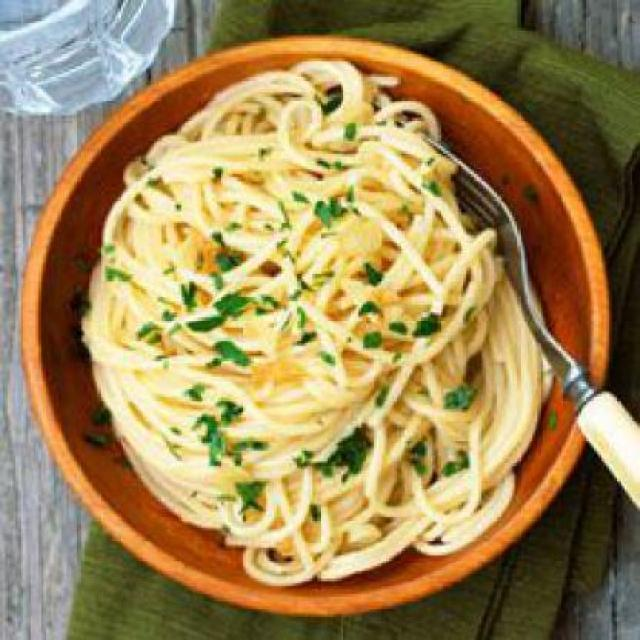Oil pasta: (102, 71, 535, 584)
